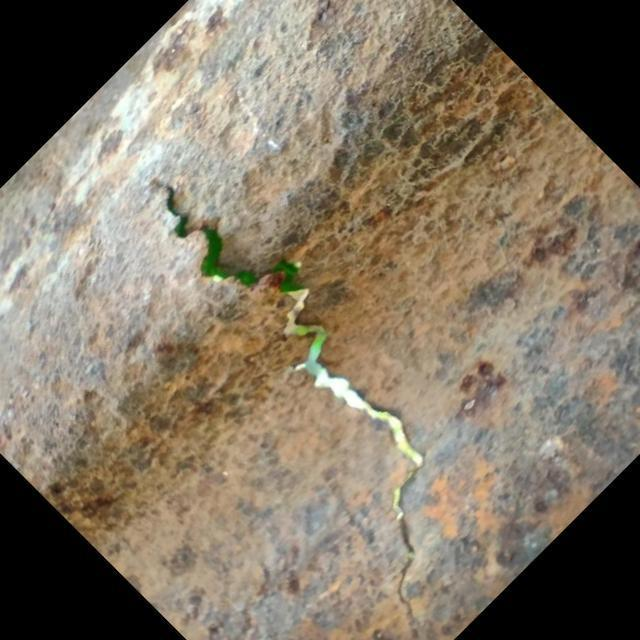defect: (153, 183, 438, 640)
